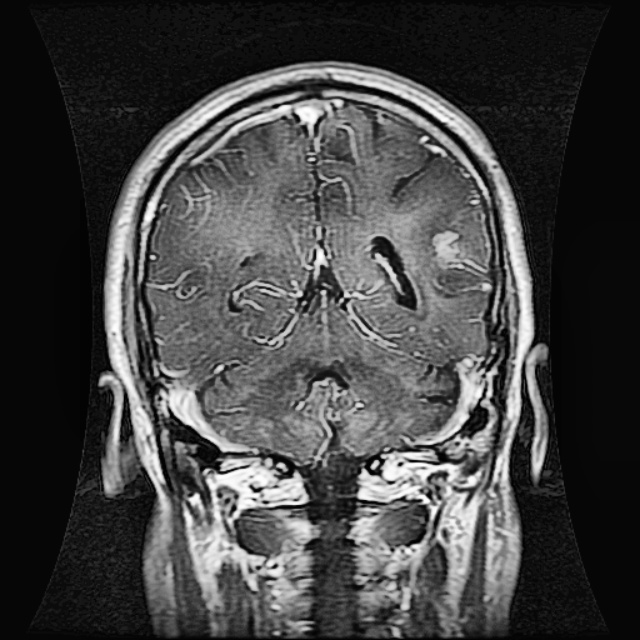Meningioma: (372, 234, 418, 310)
